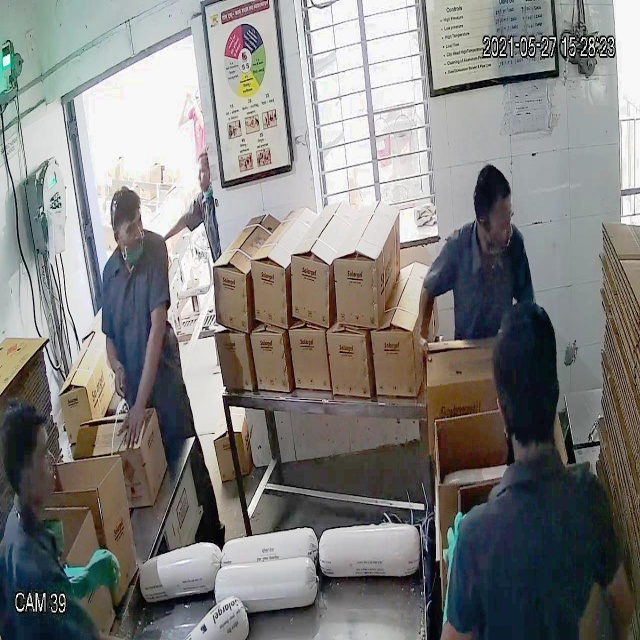Sin_gafas: (110, 213, 145, 243)
